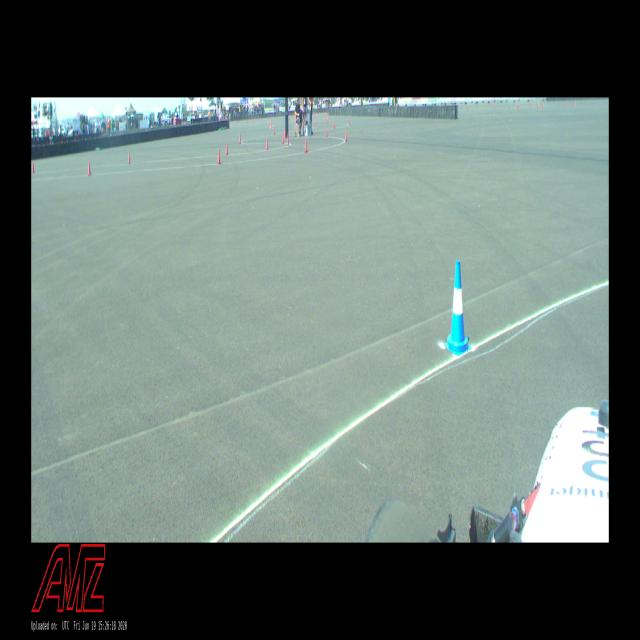blue_cone: (444, 261, 472, 356)
